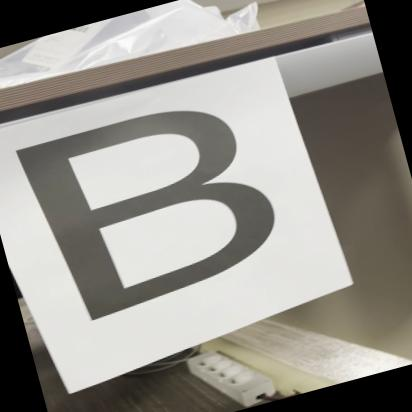seat: (0, 86, 298, 332)
